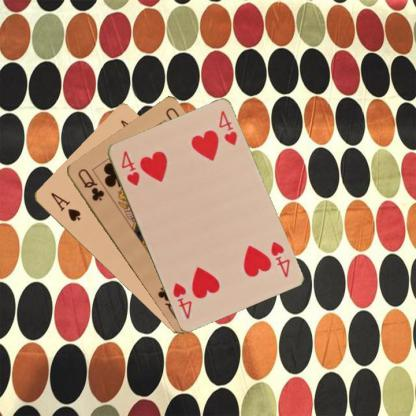4h: (268, 238, 291, 278), (118, 148, 141, 187)
As: (47, 190, 82, 223)
Qc: (75, 166, 105, 203)
